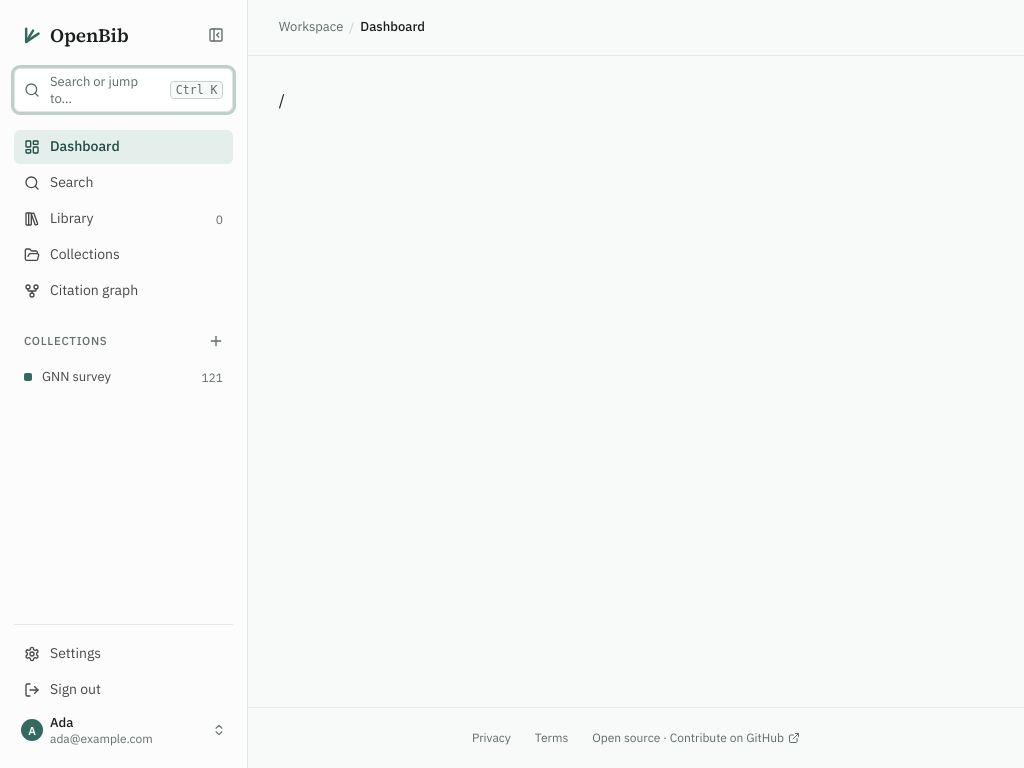
CommandPalette › opens from the sidebar button as a dialog with a combobox and listbox
Check: the element named "Sidebar" is shown, box [0,0,248,767]
Click the button with test id "palette-button": (124, 90) [14,68,233,112]
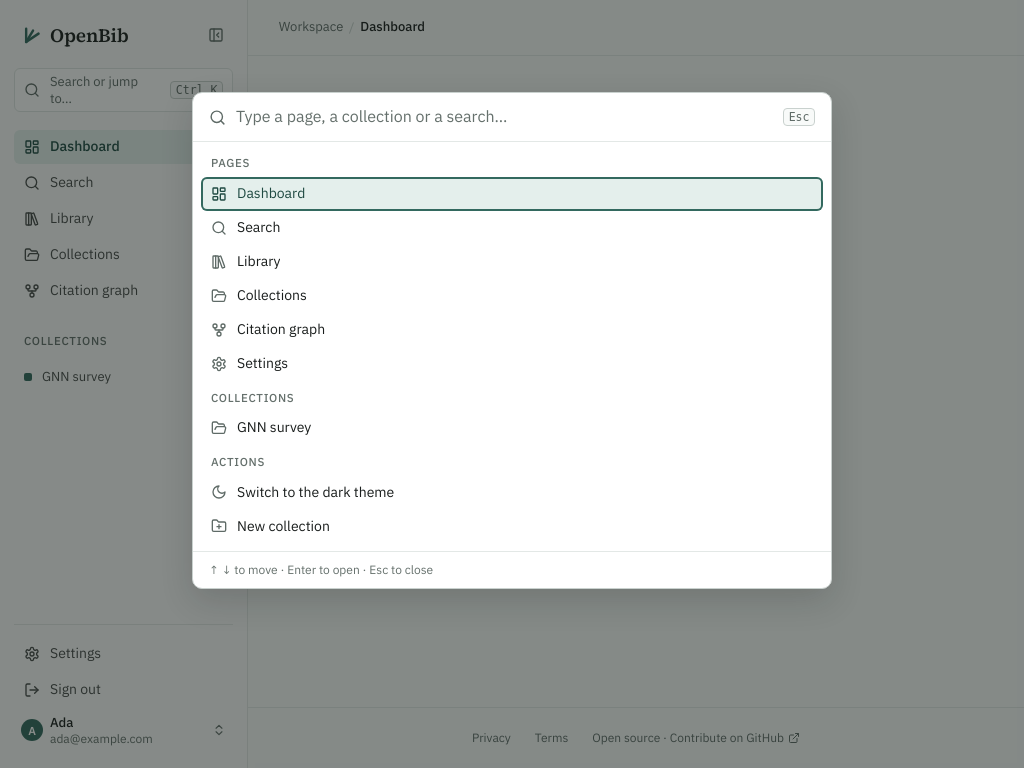
Check: the element "Pages" is shown, box [201,146,823,381]
Check: the option "GNN survey" is shown, box [211,418,311,436]
Press Escape in the dropdown named "Search pages, collections and actions", box [236,93,773,141]
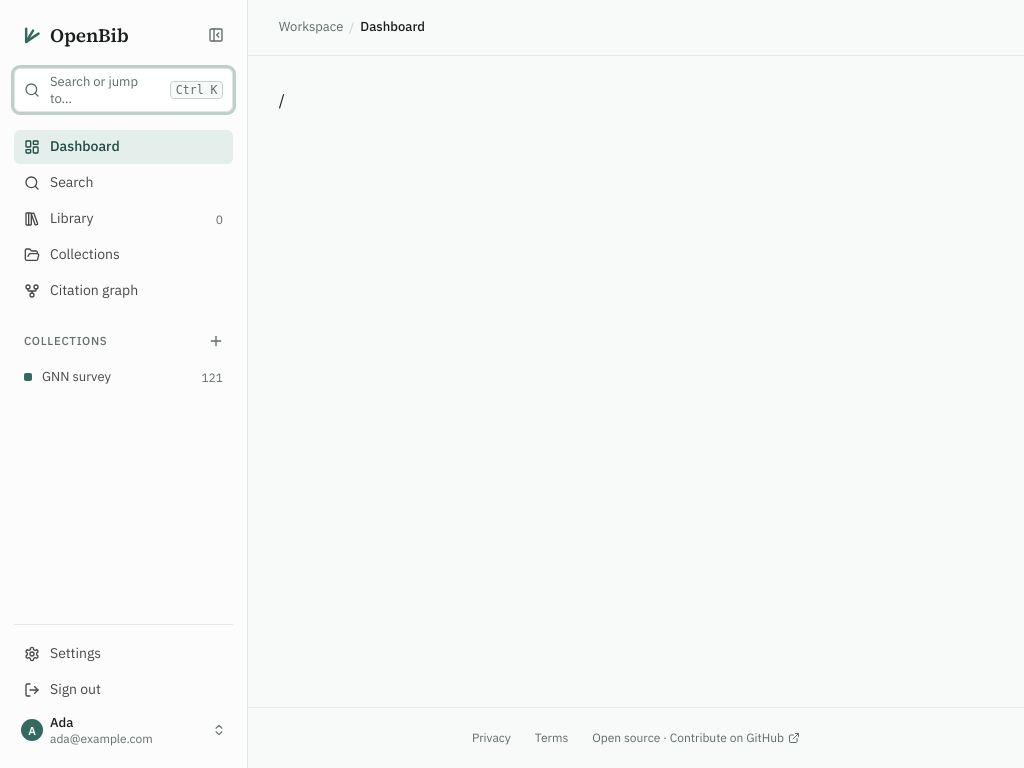
Check: the dialog is gone
